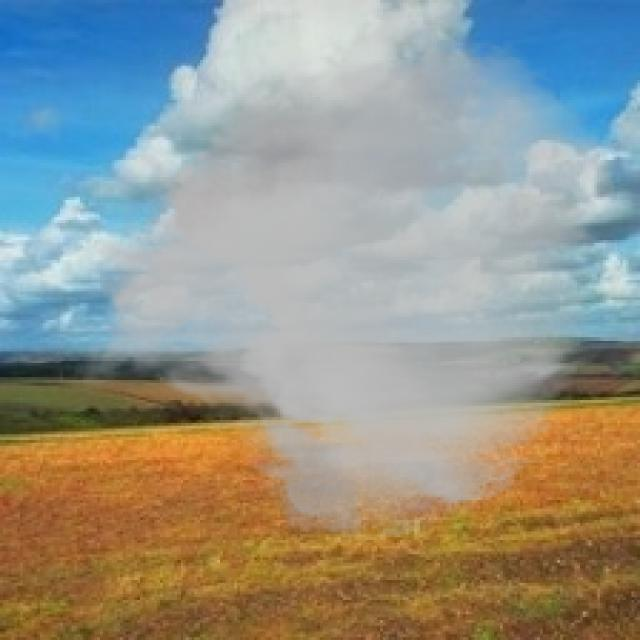smoke: (71, 8, 620, 543)
